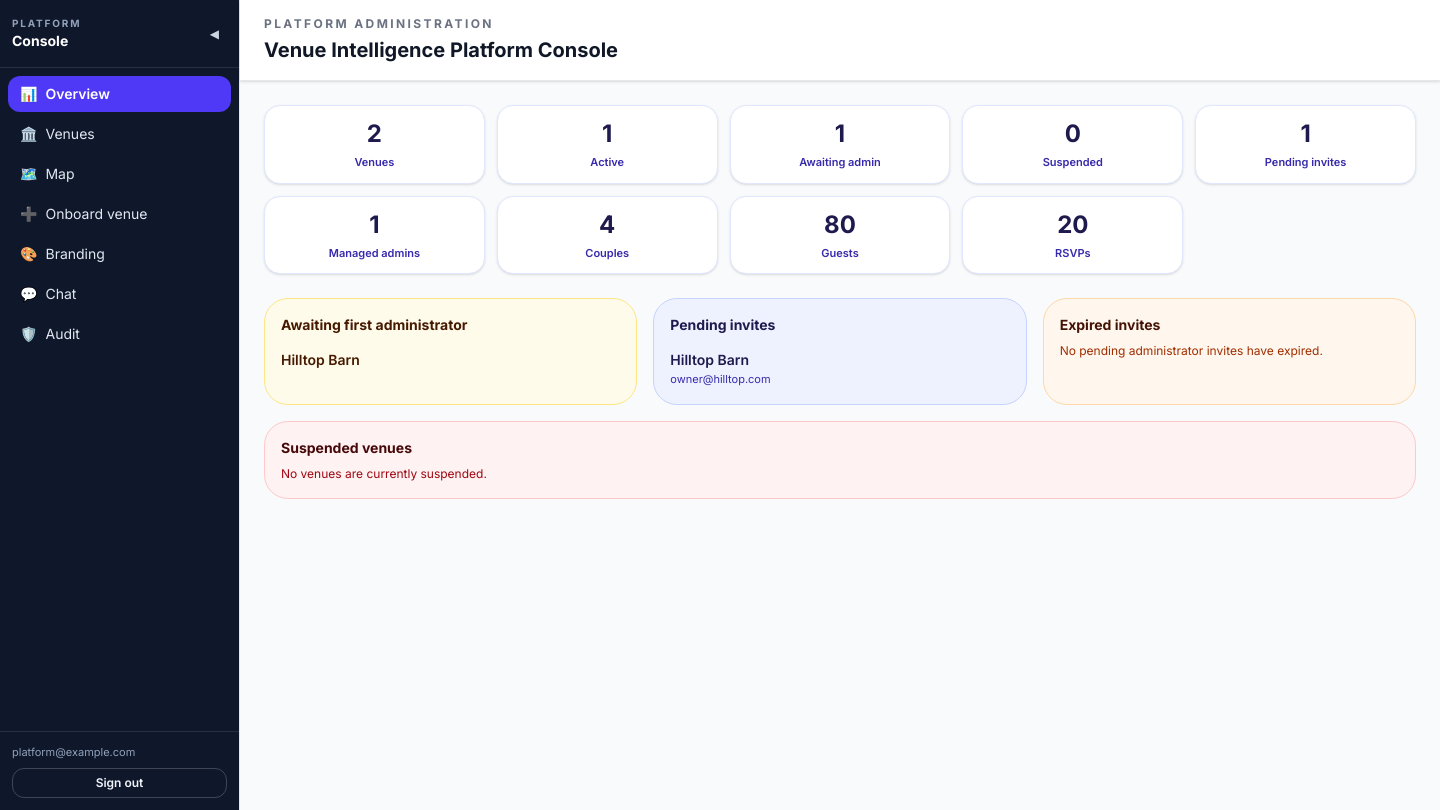
Test: PlatformAdminPortal console › deep-links overview KPIs into a filtered venue directory
Click the button "1 Pending invites".
click(1306, 144)  # box [1195,105,1416,184]
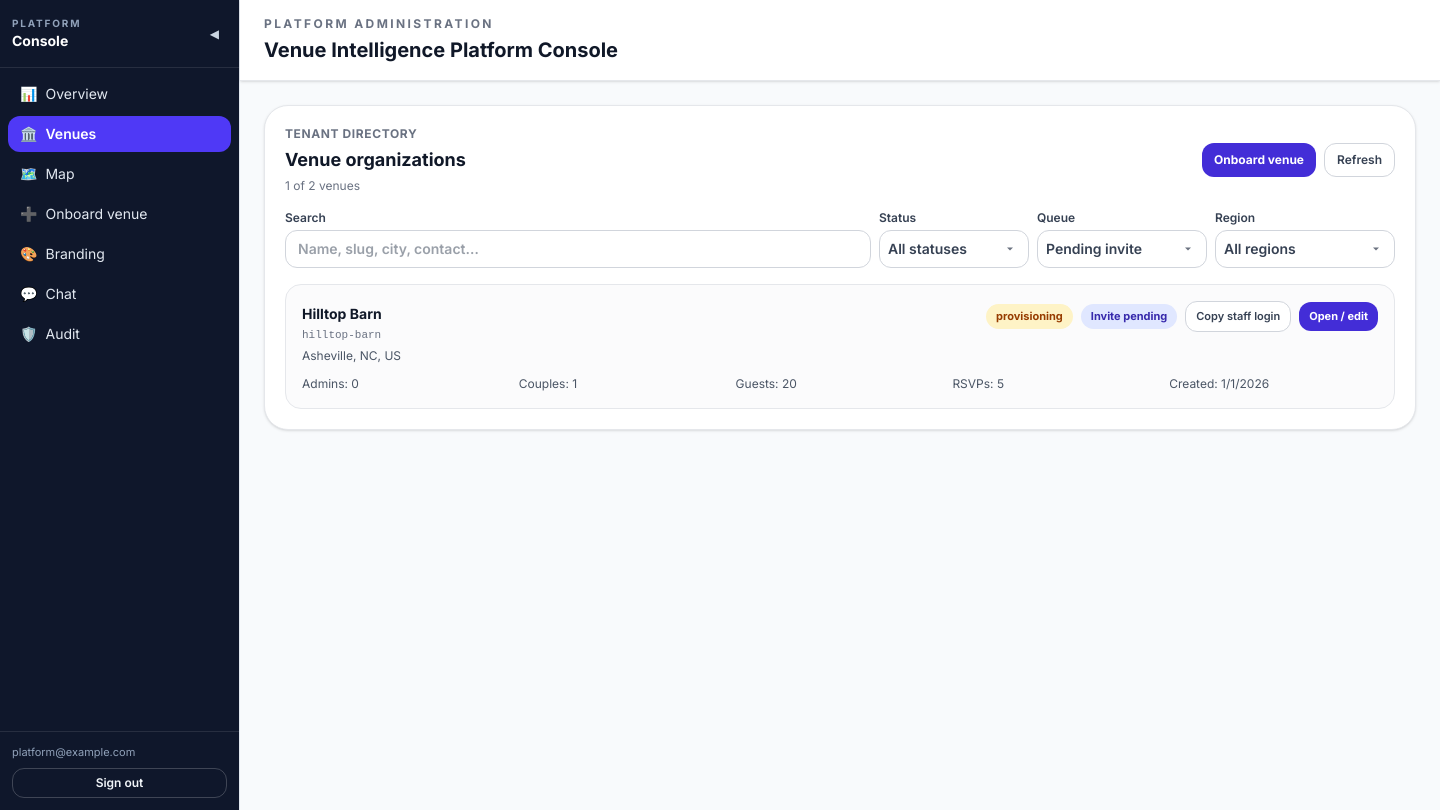
Expected: the button "Hilltop Barn" is shown, [302,304,382,324]
Expected: the text "Invite pending" is shown, [1081,304,1177,328]
